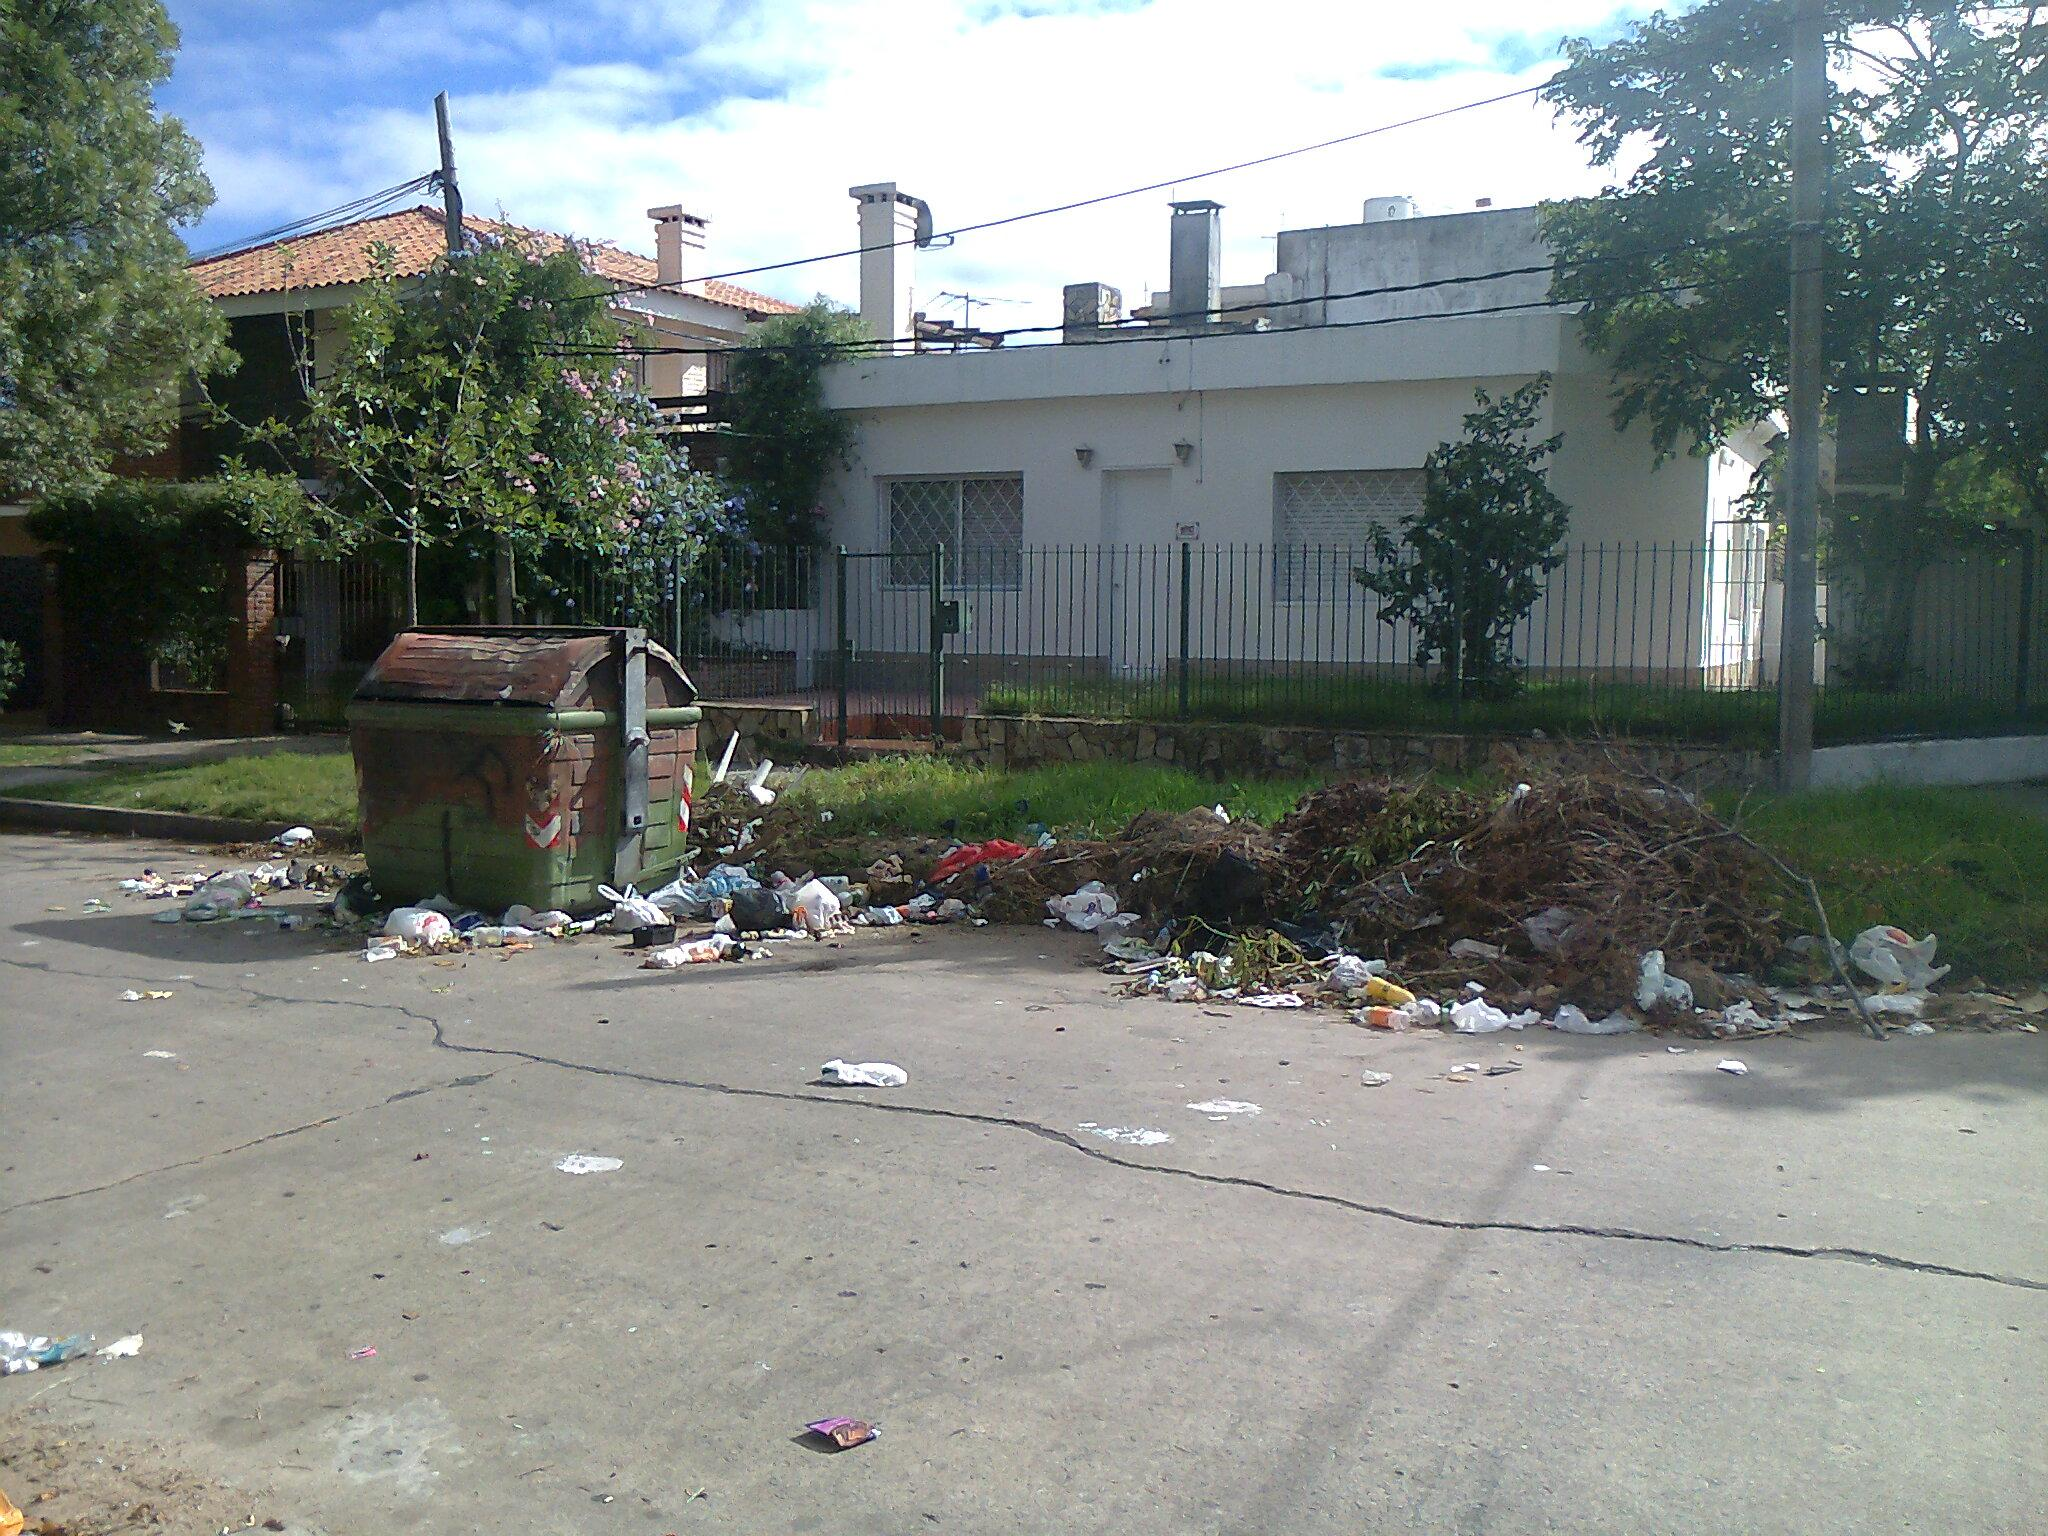Dechets: (934, 771, 1804, 1026), (1097, 933, 1516, 1033), (118, 828, 400, 931), (692, 729, 779, 862), (1848, 908, 1951, 1004), (5, 1323, 156, 1388), (601, 887, 677, 945), (368, 908, 450, 960), (1629, 949, 1692, 1015), (798, 1409, 877, 1459), (642, 931, 747, 968), (1055, 883, 1122, 933), (806, 1063, 922, 1089), (1355, 1005, 1411, 1033)
Trash: (350, 621, 706, 910)
